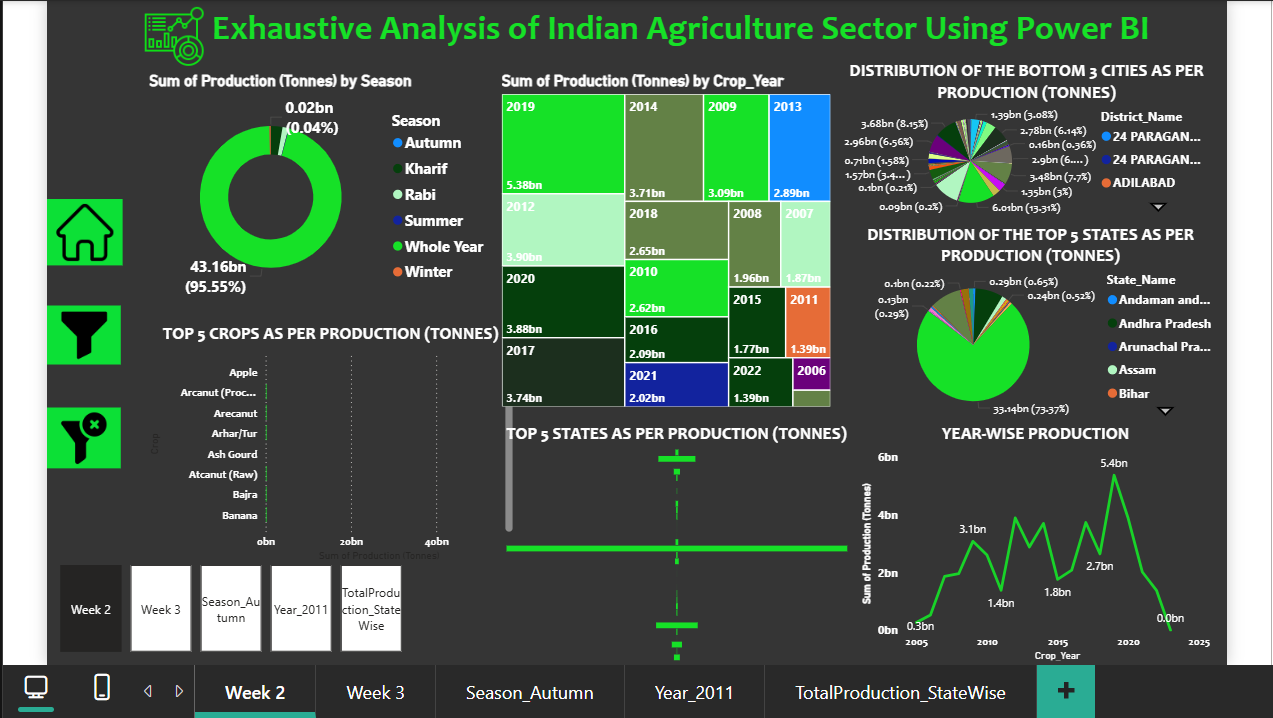

This screenshot's page, from the dashboard's own definition file:
{"tool":"powerbi","page":{"name":"Week 2","canvas":[1280,720],"ordinal":0},"visuals":[{"type":"image","box":[0,330,80,64],"z":0},{"type":"image","box":[0,440,80,66],"z":1000},{"type":"image","box":[0,214,82,72],"z":2000},{"type":"barChart","title":"TOP 5 CROPS AS PER PRODUCTION (TONNES)","fields":{"Category":["Crop_Data.Crop"],"Y":["Sum(Crop_Data.Production (Tonnes))"]},"box":[106,348,404,264],"z":3000},{"type":"funnel","title":"TOP 5 STATES AS PER PRODUCTION (TONNES)","fields":{"Y":["Sum(Crop_Data.Production (Tonnes))"],"Category":["Crop_Data.State_Name"]},"box":[488.4,456.8,389.5,263.2],"z":4000},{"type":"lineChart","title":"YEAR-WISE PRODUCTION","fields":{"Y":["Sum(Crop_Data.Production (Tonnes))"],"Category":["Crop_Data.Crop_Year"]},"box":[877.9,456.8,387.4,263.2],"z":5000},{"type":"pieChart","title":"DISTRIBUTION OF THE TOP 5 STATES AS PER PRODUCTION (TONNES)","fields":{"Category":["Crop_Data.State_Name"],"Y":["Sum(Crop_Data.Production (Tonnes))"]},"box":[854.7,240,425.3,216.8],"z":6000},{"type":"pieChart","title":"DISTRIBUTION OF THE BOTTOM 3 CITIES AS PER PRODUCTION (TONNES)","fields":{"Y":["Sum(Crop_Data.Production (Tonnes))"],"Category":["Crop_Data.District_Name"]},"box":[854.7,63.2,416.8,172.6],"z":7000},{"type":"treemap","fields":{"Group":["Crop_Data.Crop_Year"],"Values":["Sum(Crop_Data.Production (Tonnes))"]},"box":[488.4,75.8,366.3,368.4],"z":8000},{"type":"donutChart","fields":{"Category":["Crop_Data.Season"],"Y":["Sum(Crop_Data.Production (Tonnes))"]},"box":[106,76,382,252],"z":9000},{"type":"textbox","box":[94,0,1186,64],"z":10000},{"type":"image","box":[98,0,80,76],"z":11000},{"type":"pageNavigator","box":[14,612,374,94],"z":13000}]}

Visuals, with their boxes on the page's 1280x720 design canvas (x1, y1, x2, y2). These are canvas units, not pixel positions in the 1273x718 screenshot, which may show the page scaled, cropped or inside an application window:
image: <box>0,330,80,394</box>
image: <box>0,440,80,506</box>
image: <box>0,214,82,286</box>
"TOP 5 CROPS AS PER PRODUCTION (TONNES)" barChart: <box>106,348,510,612</box>
"TOP 5 STATES AS PER PRODUCTION (TONNES)" funnel: <box>488,457,878,720</box>
"YEAR-WISE PRODUCTION" lineChart: <box>878,457,1265,720</box>
"DISTRIBUTION OF THE TOP 5 STATES AS PER PRODUCTION (TONNES)" pieChart: <box>855,240,1280,457</box>
"DISTRIBUTION OF THE BOTTOM 3 CITIES AS PER PRODUCTION (TONNES)" pieChart: <box>855,63,1272,236</box>
treemap - Crop_Data.Crop_Year x Sum(Crop_Data.Production (Tonnes)): <box>488,76,855,444</box>
donutChart - Crop_Data.Season x Sum(Crop_Data.Production (Tonnes)): <box>106,76,488,328</box>
textbox: <box>94,0,1280,64</box>
image: <box>98,0,178,76</box>
pageNavigator: <box>14,612,388,706</box>
